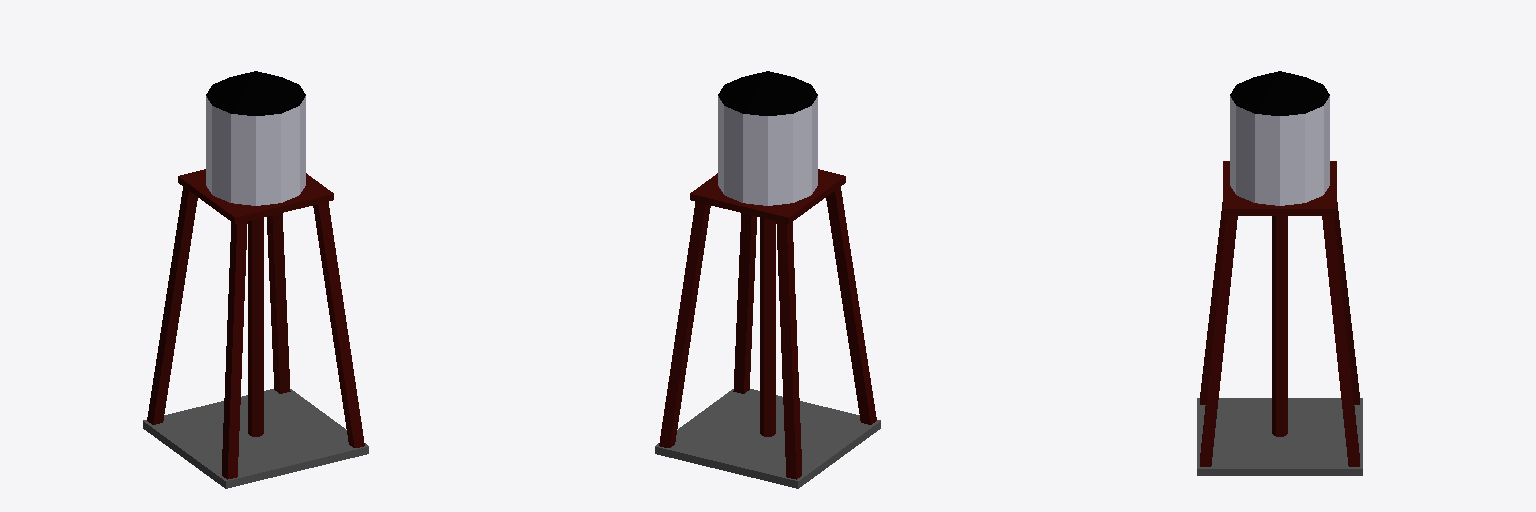
Rendered from WaterTower.obj.
3 views of the same model, side by side, from view 1: azimuth 30°, elevation 25°; view 2: azimuth 150°, elevation 25°; view 3: azimuth 270°, elevation 25° (orthographic).
Parts seen in each view (by area): view 1: Road_End_RoadEnd; view 2: Road_End_RoadEnd; view 3: Road_End_RoadEnd.
Part boxes in pixels (bbox=[...]): Road_End_RoadEnd: bbox=[143, 71, 368, 488]; Road_End_RoadEnd: bbox=[655, 71, 880, 488]; Road_End_RoadEnd: bbox=[1197, 71, 1362, 475].
Bounding box in the file's own units: 10 × 24.58 × 10.